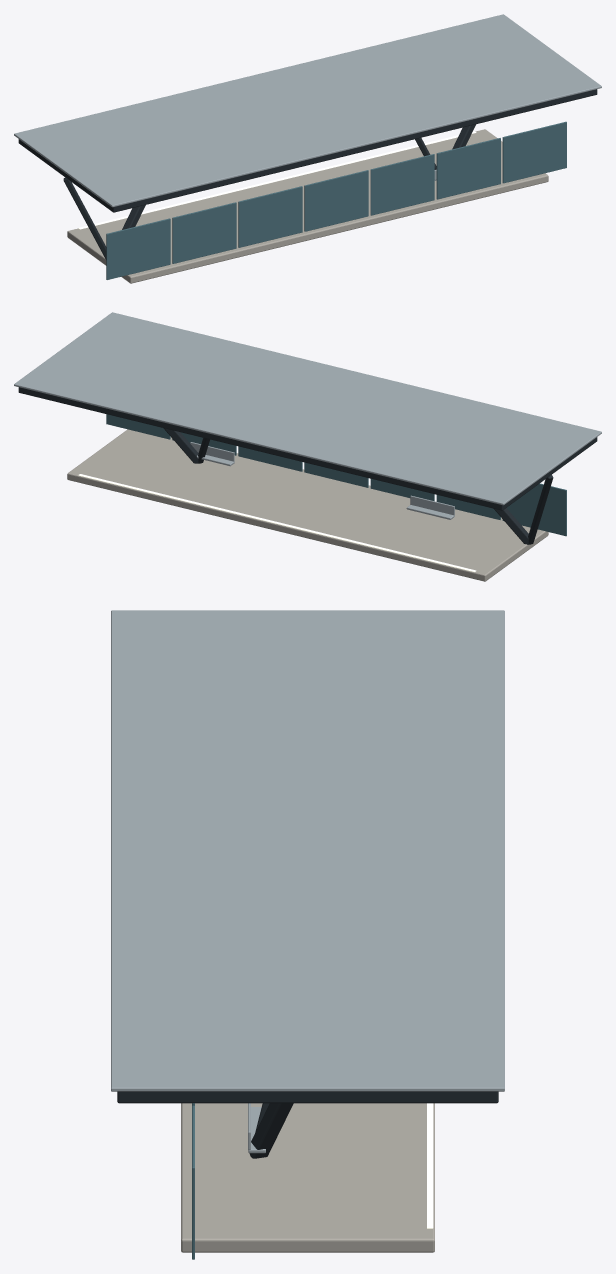
Rendered from station-CG1VG08q.glb.
3 views of the same model, one above another, from view 1: azimuth 30°, elevation 25°; view 2: azimuth 150°, elevation 25°; view 3: azimuth 270°, elevation 25° (orthographic). The views are drawn at different scales.
Parts seen in each view (by area): view 1: roof_cap, platform, canopy, rear_glass.006, rear_glass.001, rear_glass.002, rear_glass.004, rear_glass.003, rear_glass, rear_glass.005, boarding_edge, branch_column; view 2: roof_cap, platform, canopy, rear_glass, boarding_edge, rear_glass.003, rear_glass.004, rear_glass.006, rear_glass.002, rear_glass.001, branch_column, bench_back (+3 smaller); view 3: roof_cap, platform, canopy, diagonal_column.001, boarding_edge.
Part boxes in pixels (x1,y1,x2,y2): roof_cap: (14,14,601,207); platform: (67,129,548,283); canopy: (18,89,597,212); rear_glass.006: (502,121,566,183); rear_glass.001: (172,202,236,263); rear_glass.002: (238,186,302,247); rear_glass.004: (370,154,434,215); rear_glass.003: (304,170,368,231); rear_glass: (106,218,170,279); rear_glass.005: (436,138,500,199); boarding_edge: (78,131,476,229); branch_column: (63,177,106,259); roof_cap: (14,312,601,505); platform: (67,429,548,581); canopy: (18,387,597,510); rear_glass: (502,483,566,536); boarding_edge: (78,474,476,571); rear_glass.003: (304,462,368,487); rear_glass.004: (238,446,302,471); rear_glass.006: (106,414,170,439); rear_glass.002: (370,478,434,501); rear_glass.001: (436,495,500,519); branch_column: (528,474,553,544); bench_back: (410,495,454,515); roof_cap: (111,610,504,1091); platform: (181,1103,434,1252); canopy: (117,1091,498,1103); diagonal_column.001: (249,1103,293,1158); boarding_edge: (427,1103,433,1228).
Size of the model in its own units: 44.5 by 8.69 by 15.5.
